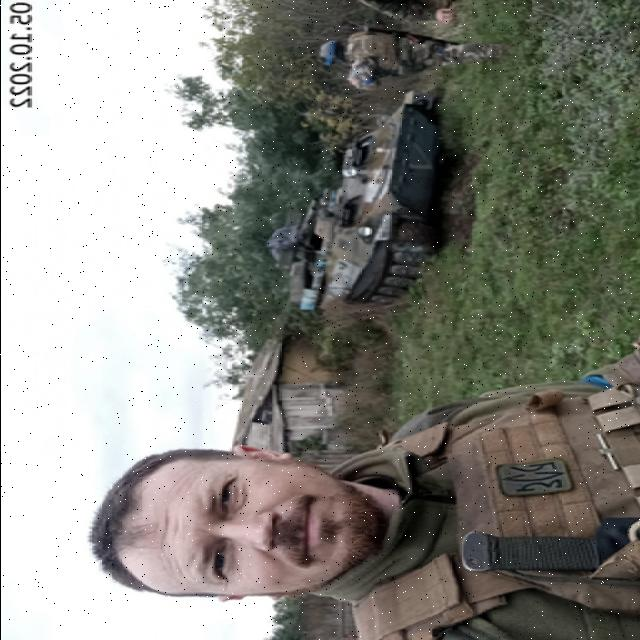APC-IFV: (253, 88, 451, 306)
